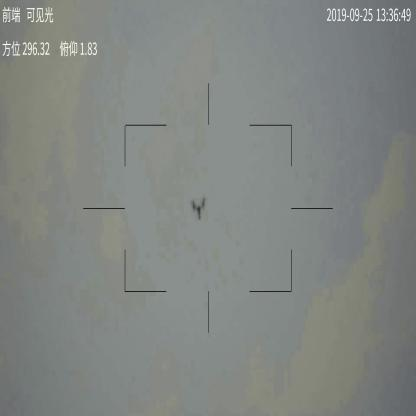uav: (189, 193, 207, 225)
